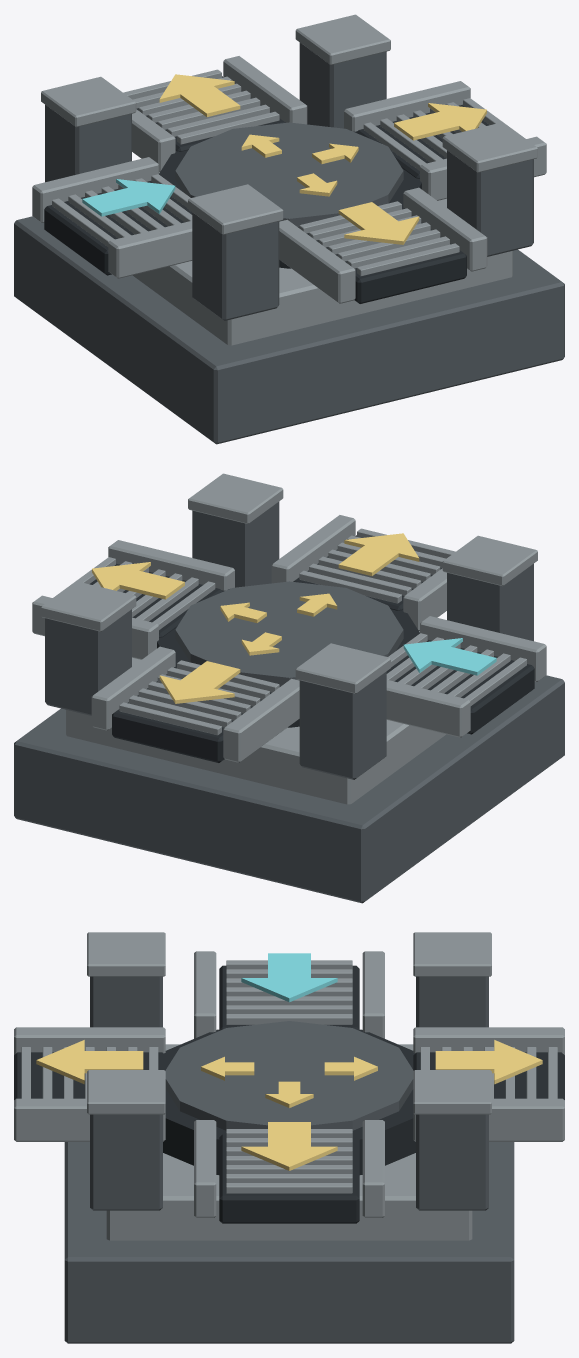
The model's file is splitter-mk1.glb.
3 views of the same model, one above another, from view 1: azimuth 30°, elevation 25°; view 2: azimuth 150°, elevation 25°; view 3: azimuth 270°, elevation 25° (orthographic). The views are drawn at different scales.
Parts seen in each view (by area): view 1: splitter-mk1 / Graphite enamel, splitter-mk1 / Machined steel, splitter-mk1 / Gold outlet markings, splitter-mk1 / Recesses and belt, splitter-mk1 / Cyan inlet markings; view 2: splitter-mk1 / Graphite enamel, splitter-mk1 / Machined steel, splitter-mk1 / Gold outlet markings, splitter-mk1 / Recesses and belt, splitter-mk1 / Cyan inlet markings; view 3: splitter-mk1 / Graphite enamel, splitter-mk1 / Machined steel, splitter-mk1 / Recesses and belt, splitter-mk1 / Gold outlet markings, splitter-mk1 / Cyan inlet markings.
Part boxes in pixels (left/top/right/bottom): splitter-mk1 / Graphite enamel: left=14, top=42, right=564, bottom=444; splitter-mk1 / Machined steel: left=32, top=14, right=546, bottom=345; splitter-mk1 / Gold outlet markings: left=159, top=74, right=486, bottom=244; splitter-mk1 / Recesses and belt: left=44, top=76, right=489, bottom=303; splitter-mk1 / Cyan inlet markings: left=82, top=179, right=175, bottom=216; splitter-mk1 / Graphite enamel: left=14, top=501, right=564, bottom=903; splitter-mk1 / Machined steel: left=32, top=473, right=546, bottom=804; splitter-mk1 / Gold outlet markings: left=92, top=533, right=419, bottom=703; splitter-mk1 / Recesses and belt: left=89, top=535, right=534, bottom=762; splitter-mk1 / Cyan inlet markings: left=403, top=638, right=496, bottom=675; splitter-mk1 / Graphite enamel: left=64, top=976, right=514, bottom=1343; splitter-mk1 / Machined steel: left=14, top=932, right=564, bottom=1240; splitter-mk1 / Recesses and belt: left=14, top=965, right=564, bottom=1223; splitter-mk1 / Gold outlet markings: left=36, top=1040, right=542, bottom=1170; splitter-mk1 / Cyan inlet markings: left=241, top=953, right=337, bottom=1002.
Size of the model in its own units: 0.98 by 0.4575 by 0.98.
